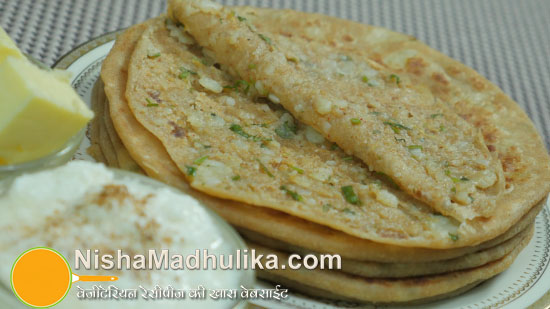aloo_paratha: (92, 1, 547, 304)
